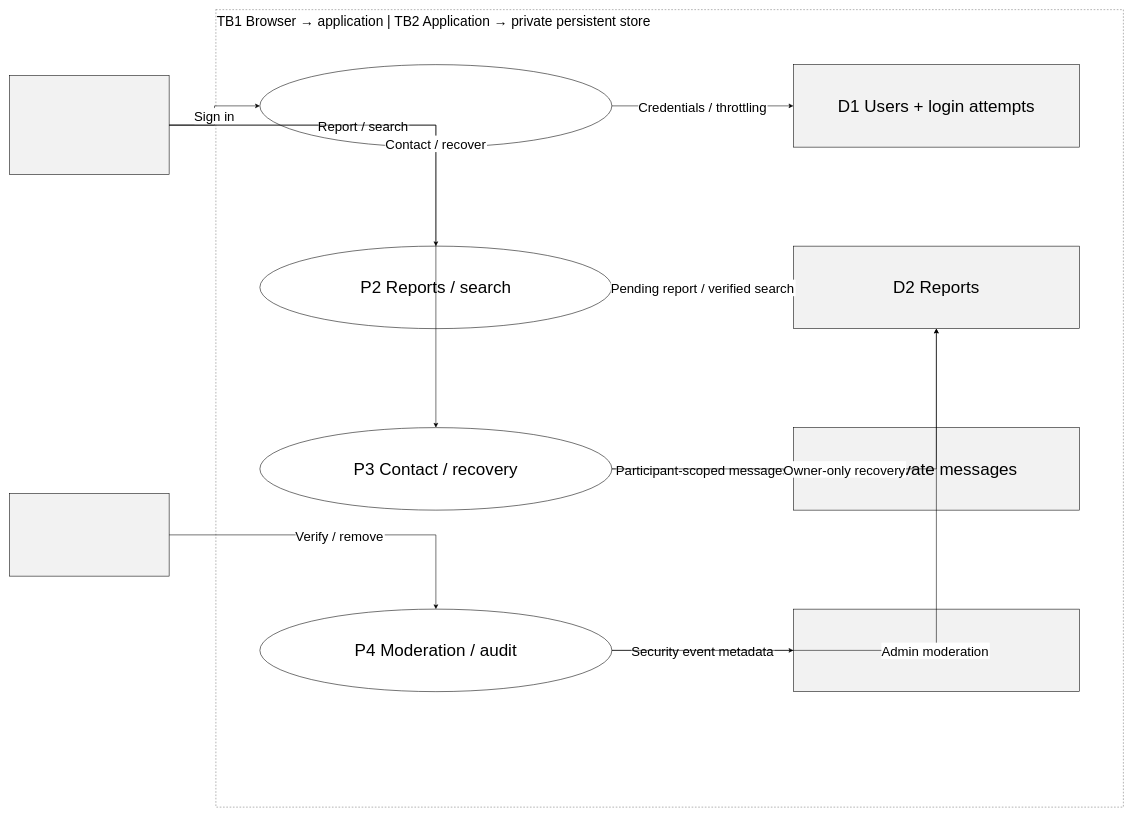
Some shapes in this 1133 by 817 pixel diagram are drawn without their labels. The box of each missing label's shape, as (x1, y1, x2, y2) in pixels:
D4 Audit events: (793, 609, 1079, 692)
E1 Campus user Student / Faculty: (9, 75, 169, 175)
E2 Administrator: (9, 493, 169, 576)
P1 Identity / sessions: (259, 64, 612, 147)
